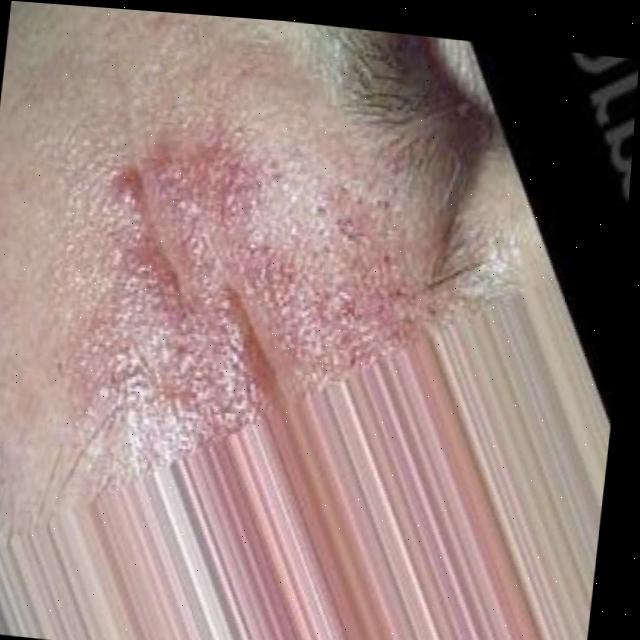Rosacea: (57, 129, 430, 538)
